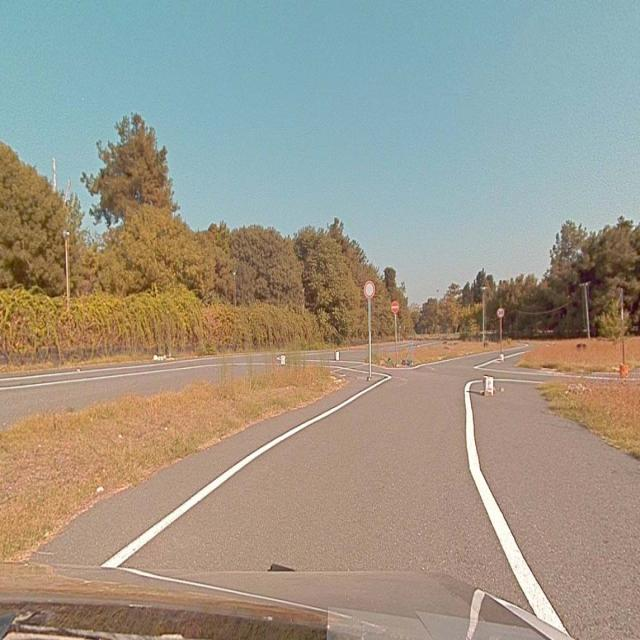girisyok: (391, 300, 399, 313)
